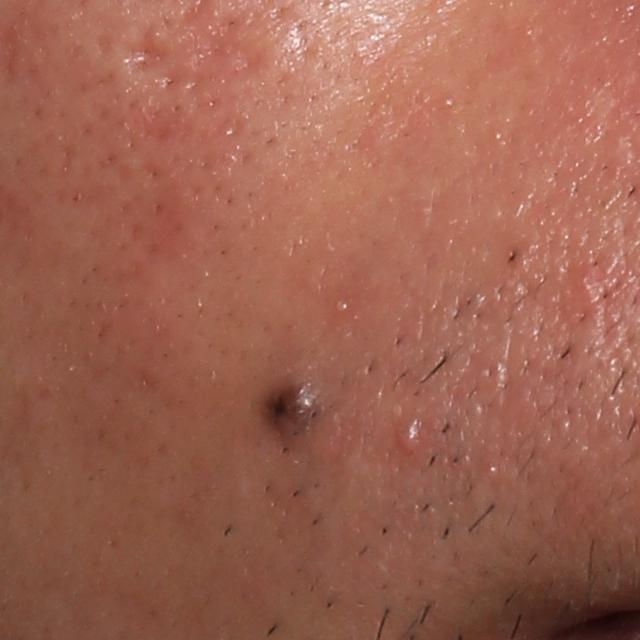atrophic_scar: (126, 18, 178, 73)
nevus: (262, 378, 331, 451)
